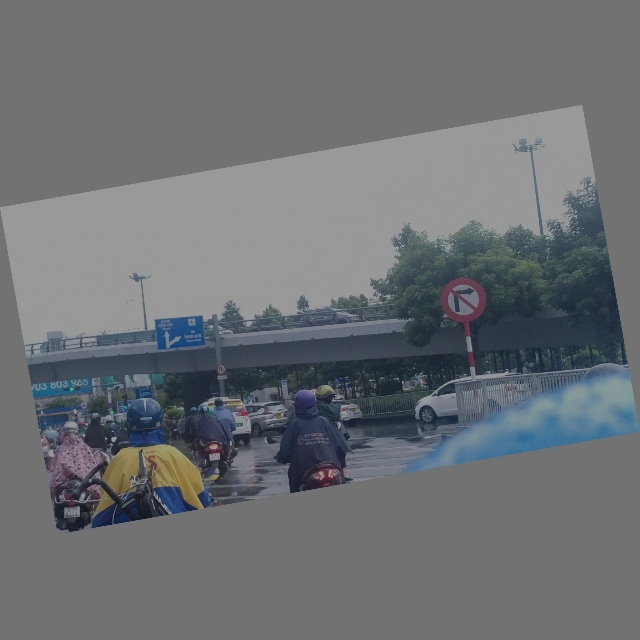P.123b: (436, 274, 491, 327)
P.124b1: (215, 364, 227, 377)
